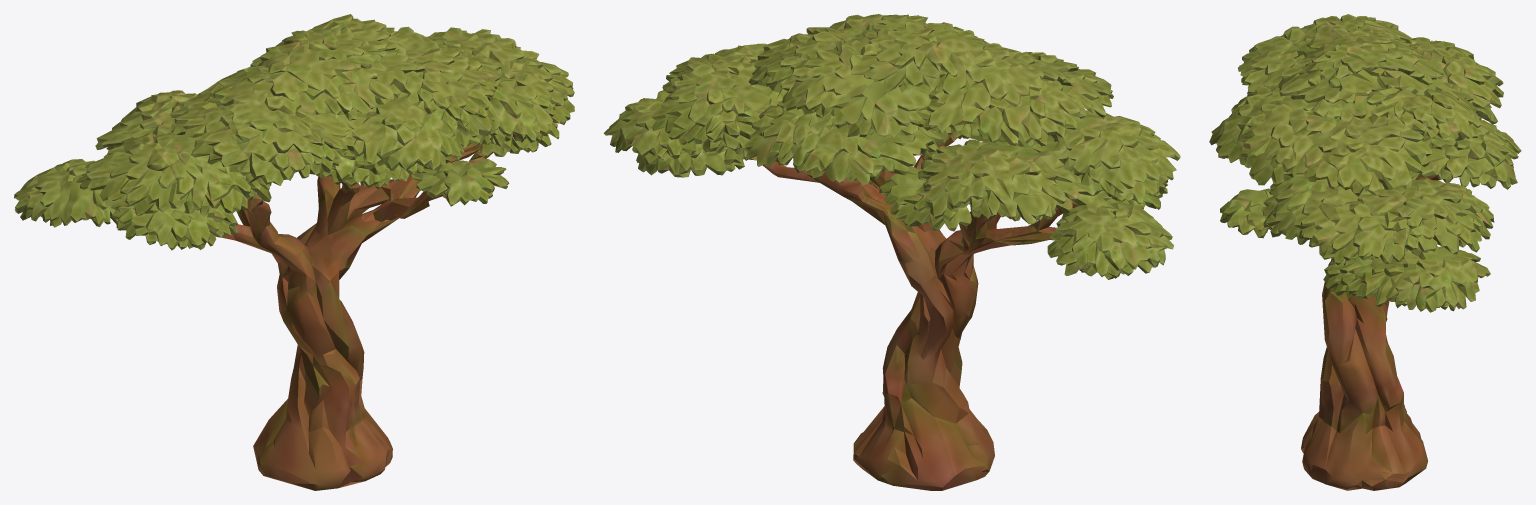
The picture shows the model from 3 angles, left to right: view 1: azimuth 30°, elevation 25°; view 2: azimuth 150°, elevation 25°; view 3: azimuth 270°, elevation 25°; orthographic projection. The views are drawn at different scales.
Visible parts, largest first — view 1: output_unwrapped; view 2: output_unwrapped; view 3: output_unwrapped.
Part boxes in pixels (x1,y1,x2,y2): output_unwrapped: (14,14,574,490); output_unwrapped: (603,14,1180,490); output_unwrapped: (1209,14,1521,490).
Size of the model in its own units: 1.9 by 1.42 by 0.9668.
1 material, 1 textured.
